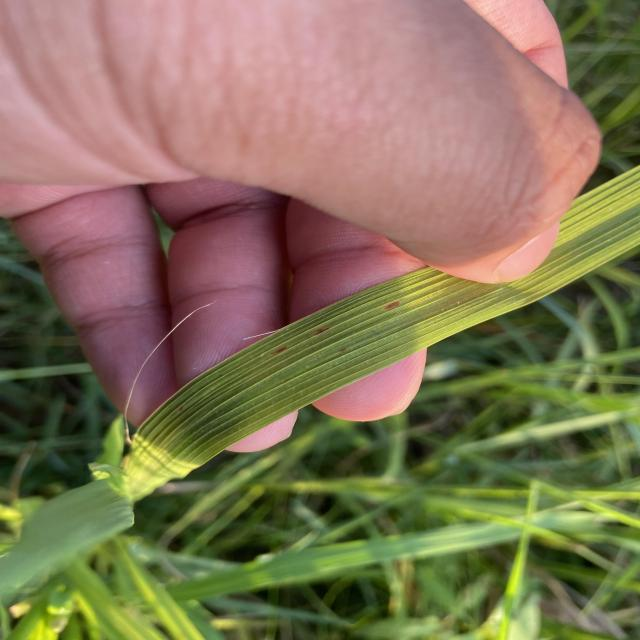Dom nau: (384, 301, 400, 310), (315, 327, 331, 335), (273, 346, 287, 353)
